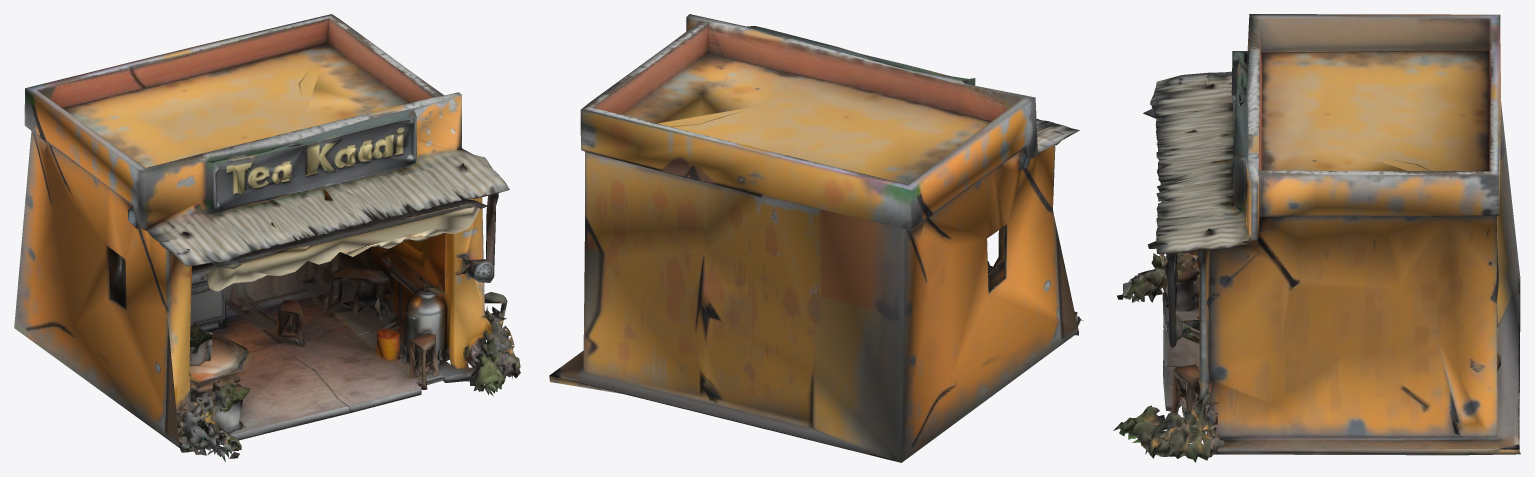
Rendered from tea_stall.glb.
The picture shows the model from 3 angles, left to right: view 1: azimuth 30°, elevation 25°; view 2: azimuth 150°, elevation 25°; view 3: azimuth 270°, elevation 25°; orthographic projection. The views are drawn at different scales.
Visible parts, largest first — view 1: model; view 2: model; view 3: model.
Part boxes in pixels (<box>): model: <box>14,14,520,461</box>; model: <box>549,14,1083,462</box>; model: <box>1113,14,1520,462</box>.
Size of the model in its own units: 2 by 1.4 by 1.9.
Materials: 1 (1 with a texture image).
